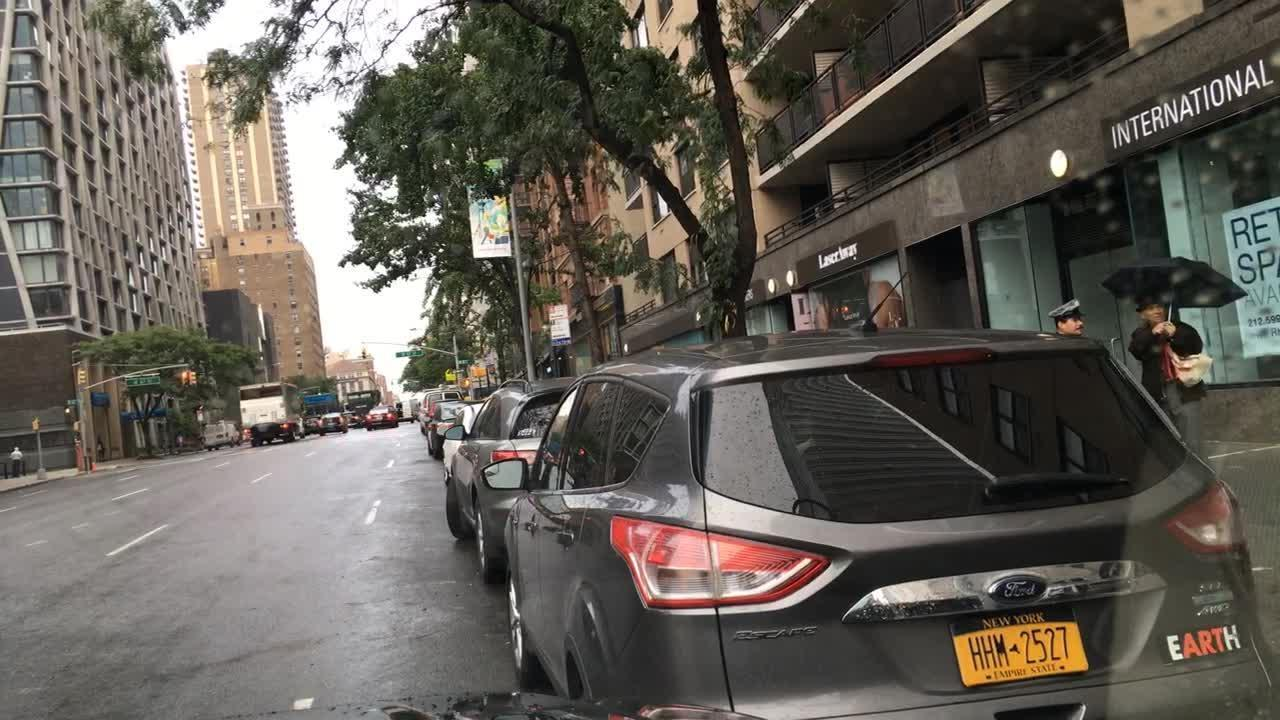ford: (968, 561, 1056, 610)
